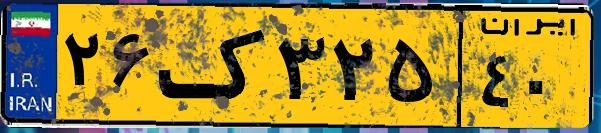0: (525, 38, 570, 115)
2: (330, 28, 385, 110), (57, 26, 110, 100)
3: (270, 28, 330, 110)
4: (475, 38, 525, 113)
5: (385, 28, 445, 110)
6: (110, 28, 158, 98)
ک: (158, 12, 270, 120)
